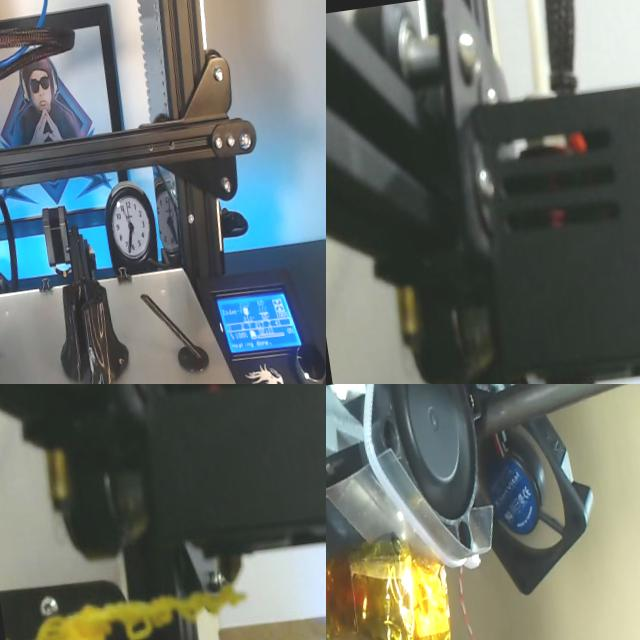spaghetti: (34, 585, 244, 640)
